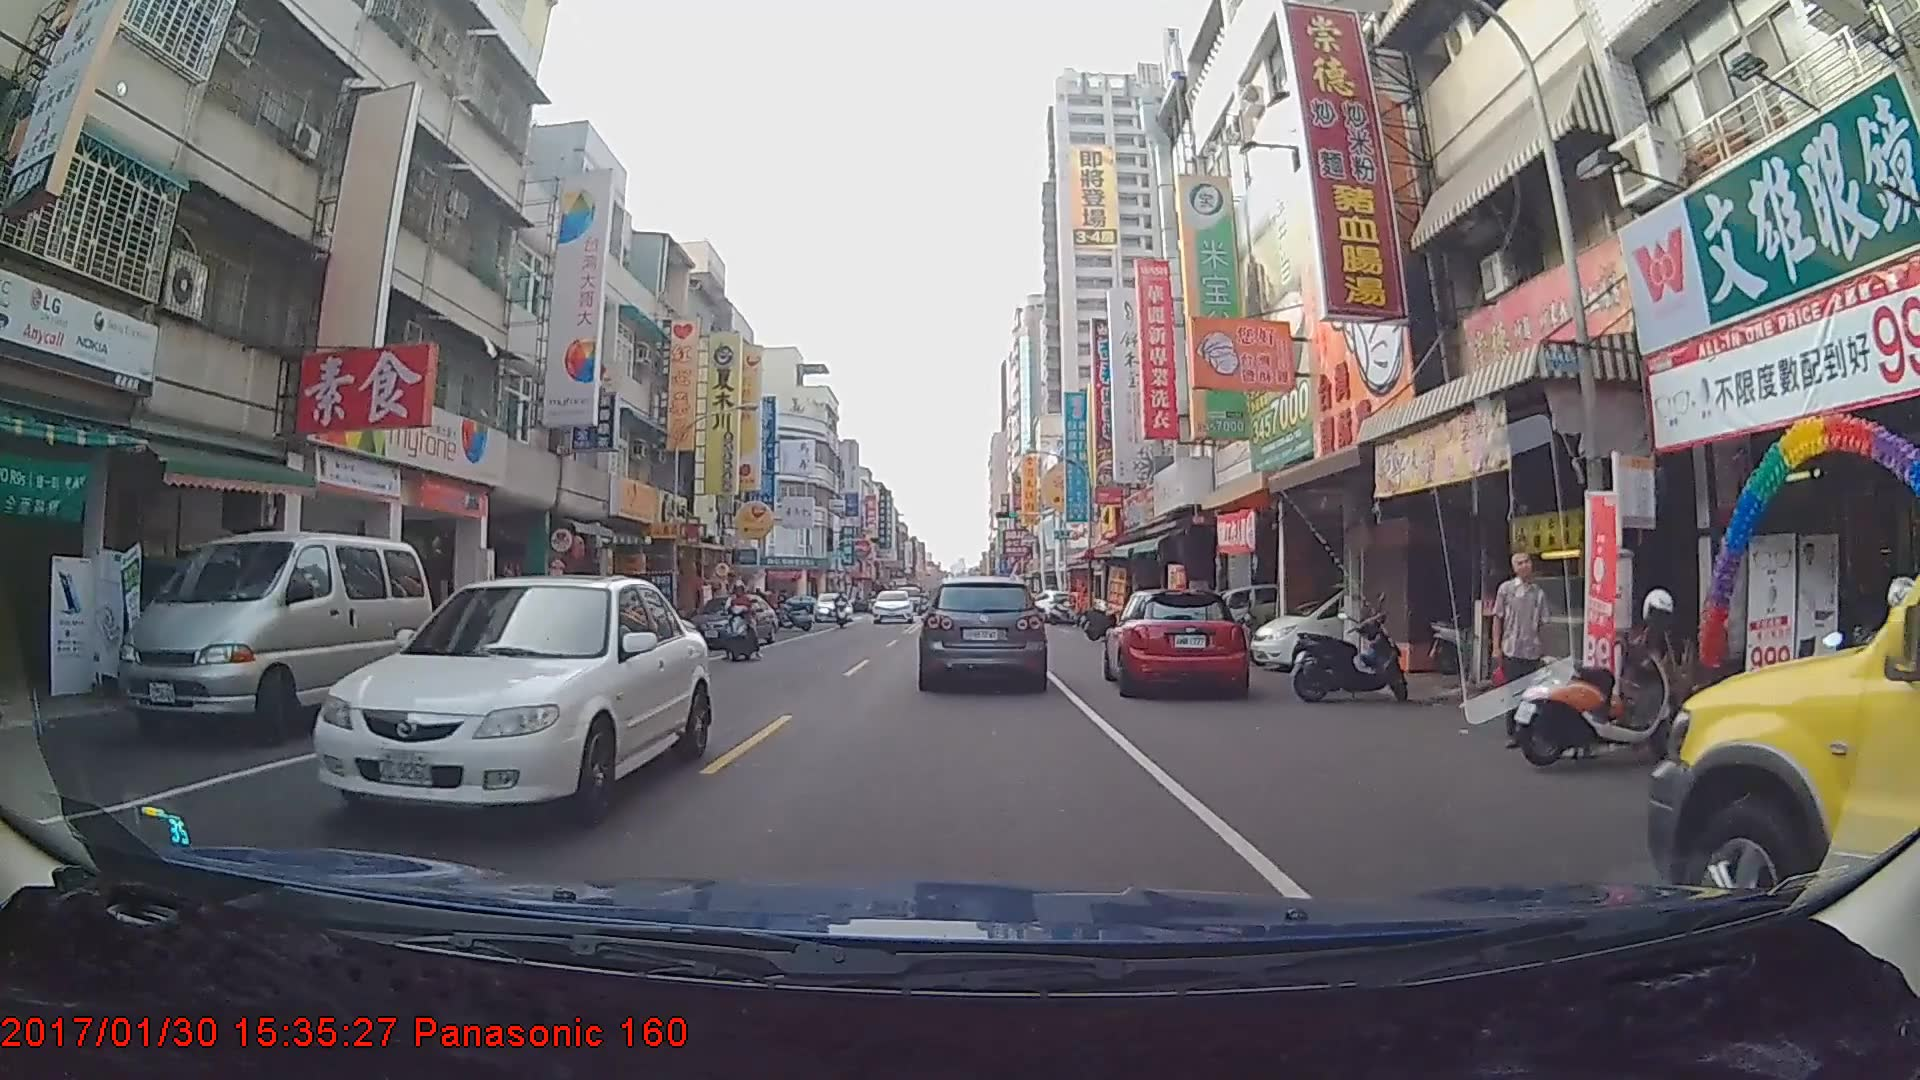pedestrian: (1492, 551, 1556, 753)
rider: (723, 577, 768, 656)
vehicle: (1652, 431, 1918, 1005), (310, 572, 713, 830), (114, 528, 434, 744), (1104, 586, 1250, 698), (920, 575, 1046, 689), (683, 594, 775, 651), (869, 583, 913, 618), (812, 588, 853, 620)
